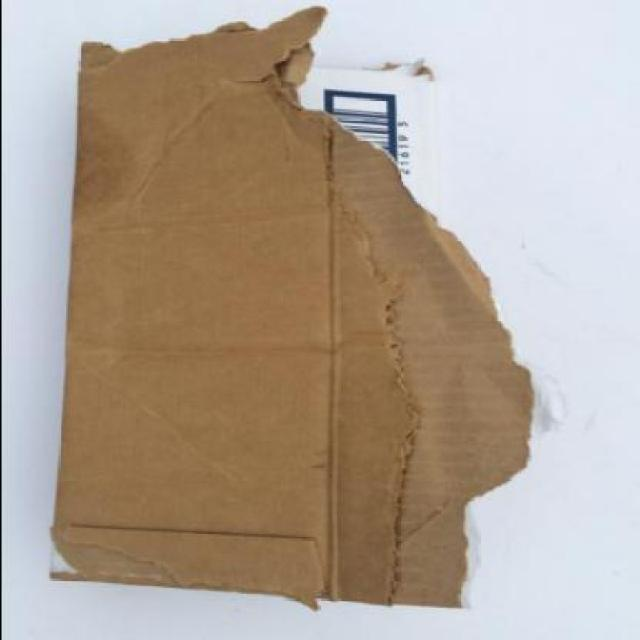CARDBOARD: (48, 2, 534, 607)
